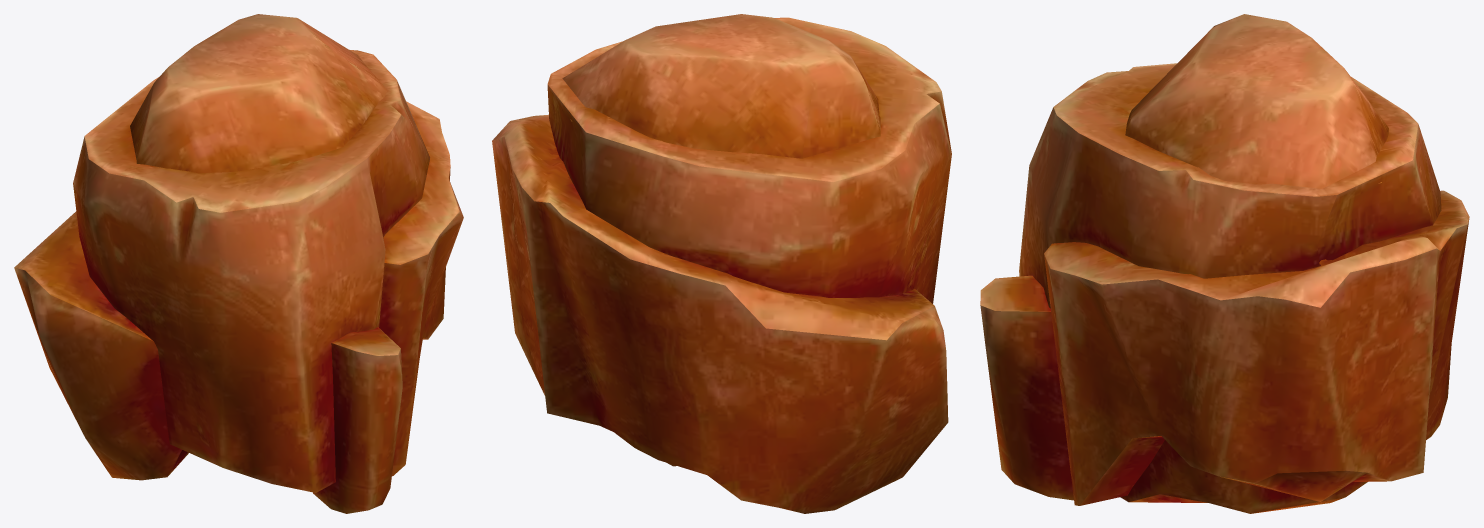
3 renders of one model, left to right at view 1: azimuth 30°, elevation 25°; view 2: azimuth 150°, elevation 25°; view 3: azimuth 270°, elevation 25°, orthographic. The views are drawn at different scales.
Parts seen in each view (by area): view 1: SM_Copper_Ore_Medium_01_LOD0; view 2: SM_Copper_Ore_Medium_01_LOD0; view 3: SM_Copper_Ore_Medium_01_LOD0.
Part boxes in pixels (<box>): SM_Copper_Ore_Medium_01_LOD0: <box>14,14,463,513</box>; SM_Copper_Ore_Medium_01_LOD0: <box>492,14,951,513</box>; SM_Copper_Ore_Medium_01_LOD0: <box>980,14,1469,513</box>.
Bounding box in the file's own units: 0.357 × 0.3312 × 0.3365.
1 material, 1 textured.
